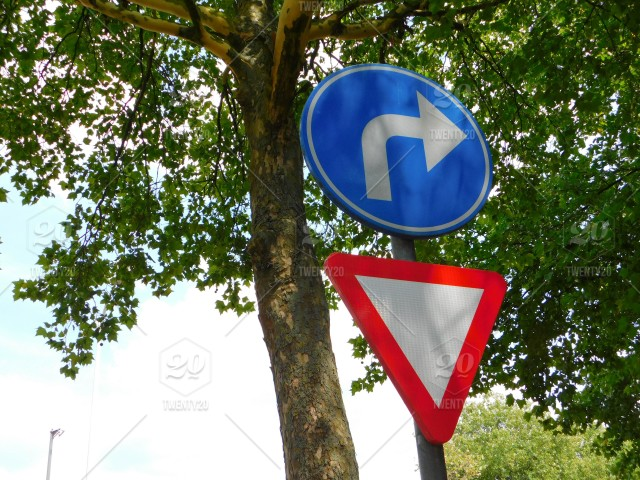right: (358, 86, 474, 206)
